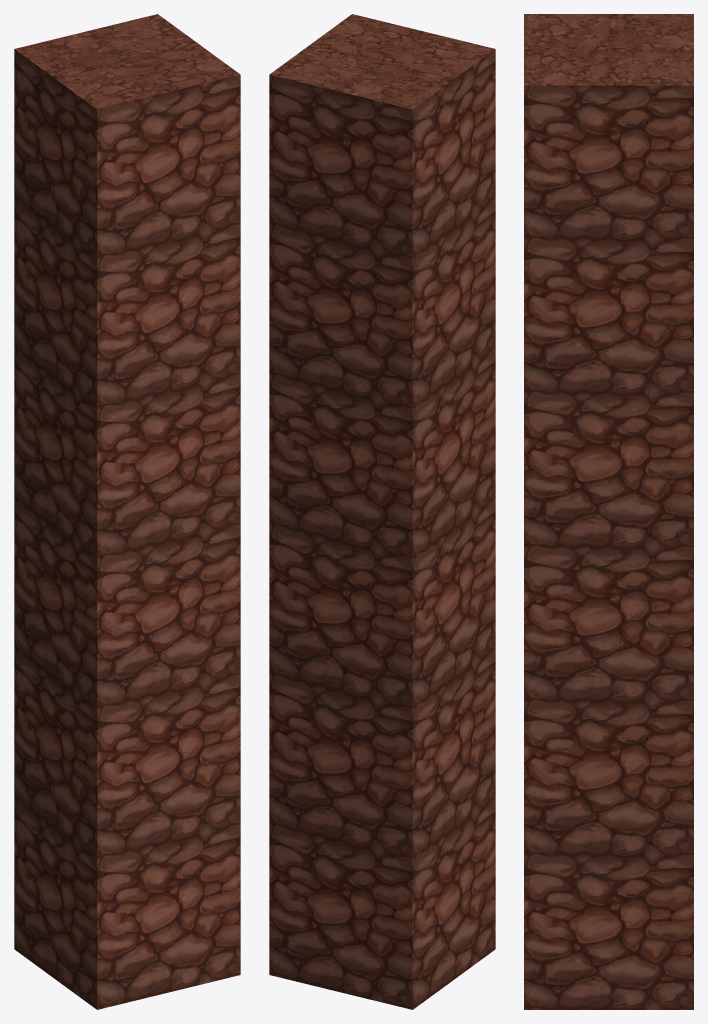
The model's file is Wall_6Column_OBJ.obj.
The picture shows the model from 3 angles, left to right: view 1: azimuth 30°, elevation 25°; view 2: azimuth 150°, elevation 25°; view 3: azimuth 270°, elevation 25°; orthographic projection. The views are drawn at different scales.
Parts seen in each view (by area): view 1: pPlane117; view 2: pPlane117; view 3: pPlane117.
Boxes of the visible parts, left/top/right/bottom form: pPlane117: left=14, top=14, right=240, bottom=1009; pPlane117: left=269, top=14, right=495, bottom=1009; pPlane117: left=524, top=14, right=693, bottom=1009.
Bounding box in the file's own units: 2 × 12 × 2.
2 materials, 2 textured.
